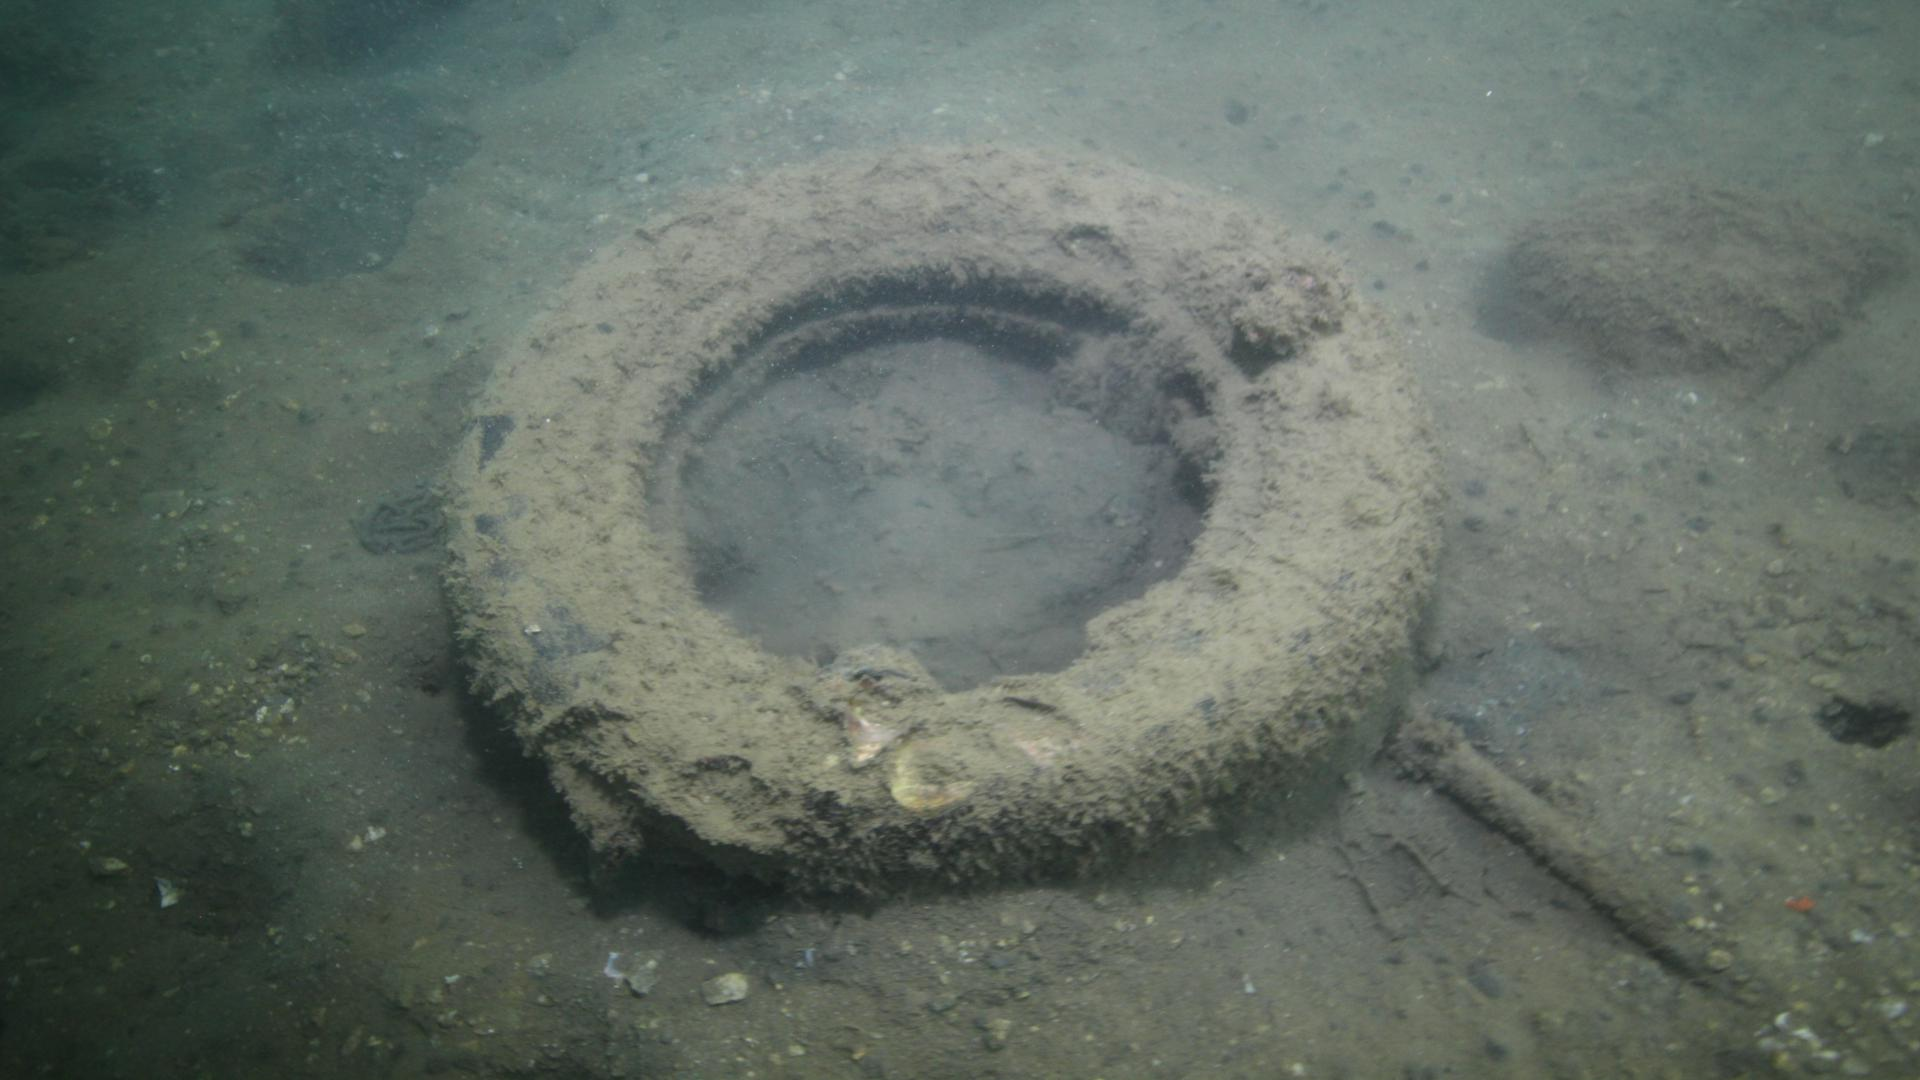tire: (433, 136, 1445, 902)
